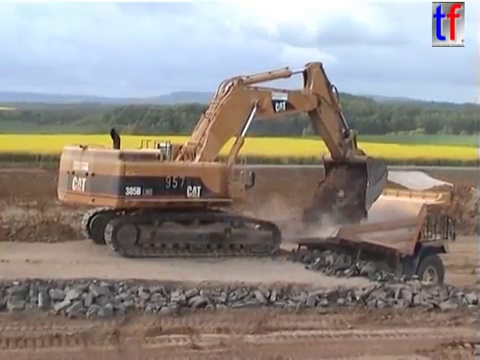excavator: (54, 59, 390, 259)
truck: (284, 185, 457, 299)
